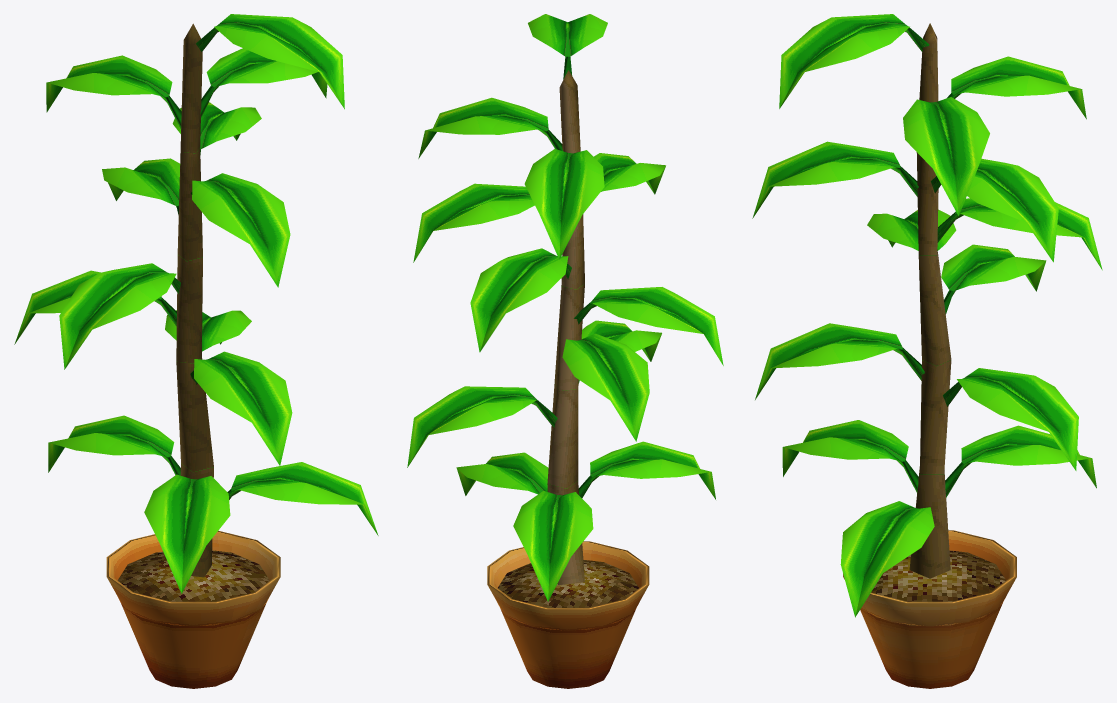
File: TALL_HOUSEPLANT.obj
3 renders of one model, left to right at view 1: azimuth 30°, elevation 25°; view 2: azimuth 150°, elevation 25°; view 3: azimuth 270°, elevation 25°, orthographic. The views are drawn at different scales.
Visible parts, largest first — view 1: DB:>PERSO>P_TALL_HOUSEPLANT>MESH_PWP>P_TALL_HOUSEPLANT_MESH_MES; view 2: DB:>PERSO>P_TALL_HOUSEPLANT>MESH_PWP>P_TALL_HOUSEPLANT_MESH_MES; view 3: DB:>PERSO>P_TALL_HOUSEPLANT>MESH_PWP>P_TALL_HOUSEPLANT_MESH_MES.
Boxes of the visible parts, box(x1,y1,x2,y2) form: DB:>PERSO>P_TALL_HOUSEPLANT>MESH_PWP>P_TALL_HOUSEPLANT_MESH_MES: box(14, 14, 378, 688); DB:>PERSO>P_TALL_HOUSEPLANT>MESH_PWP>P_TALL_HOUSEPLANT_MESH_MES: box(407, 14, 723, 688); DB:>PERSO>P_TALL_HOUSEPLANT>MESH_PWP>P_TALL_HOUSEPLANT_MESH_MES: box(752, 14, 1102, 688).
Size of the model in its own units: 8.79 by 18.87 by 9.01.
Materials: 1 (1 with a texture image).
